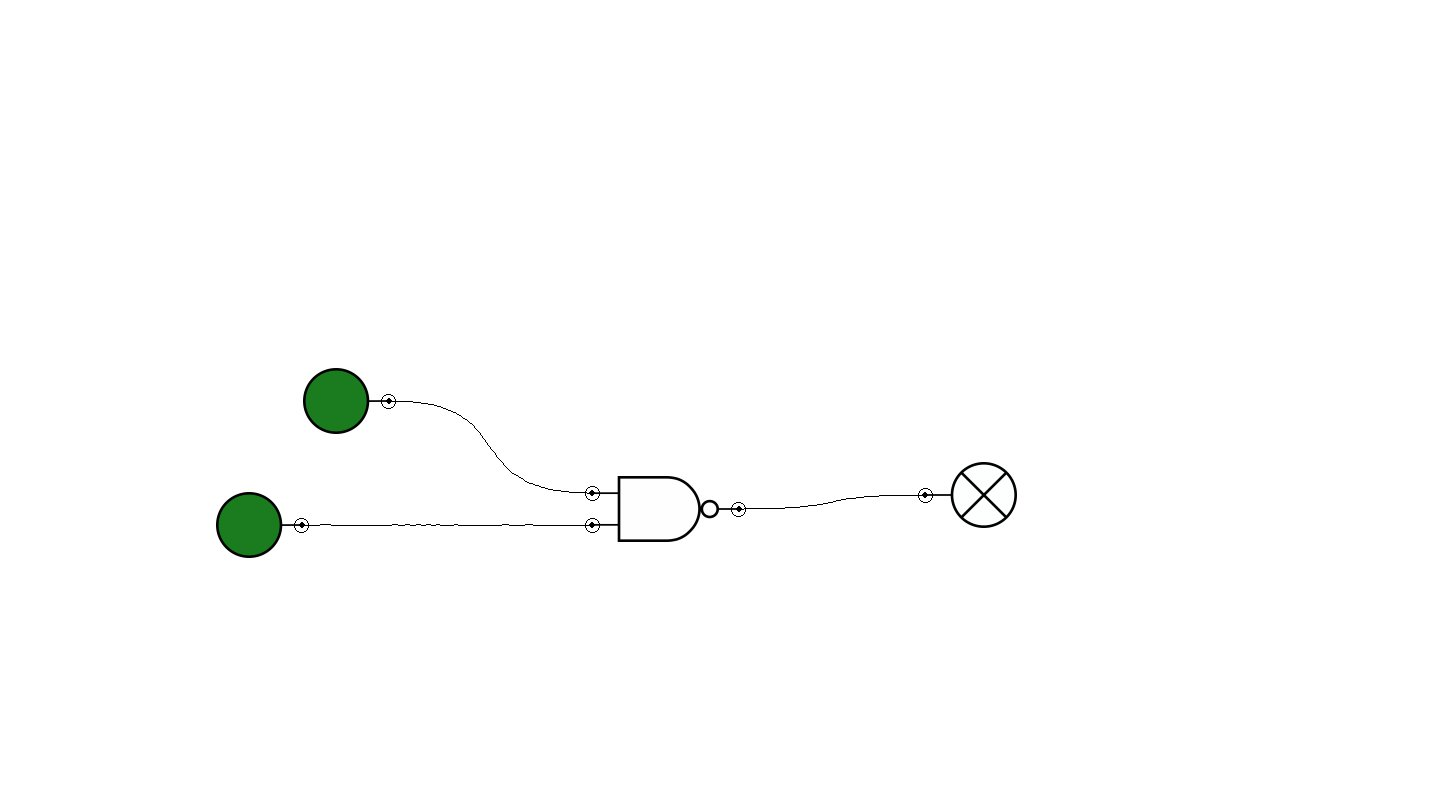bulb: (918, 462, 1017, 528)
nand: (585, 476, 746, 542)
switch_True: (216, 492, 309, 558), (303, 368, 396, 434)
